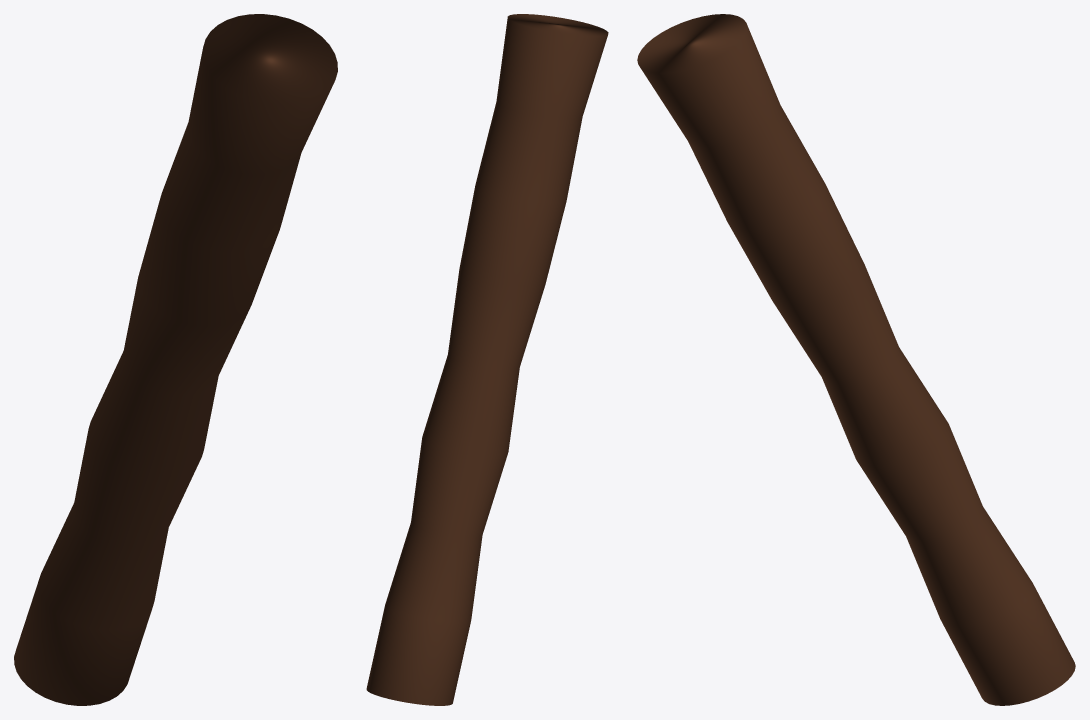
File: TOCHAR.fbx
The picture shows the model from 3 angles, left to right: view 1: azimuth 30°, elevation 25°; view 2: azimuth 150°, elevation 25°; view 3: azimuth 270°, elevation 25°; orthographic projection. The views are drawn at different scales.
Visible parts, largest first — view 1: Cylinder; view 2: Cylinder; view 3: Cylinder.
Boxes of the visible parts, bbox=[...] form: Cylinder: bbox=[14, 14, 337, 705]; Cylinder: bbox=[366, 14, 608, 705]; Cylinder: bbox=[637, 14, 1075, 705].
Size of the model in its own units: 20.61 by 131 by 77.88.
